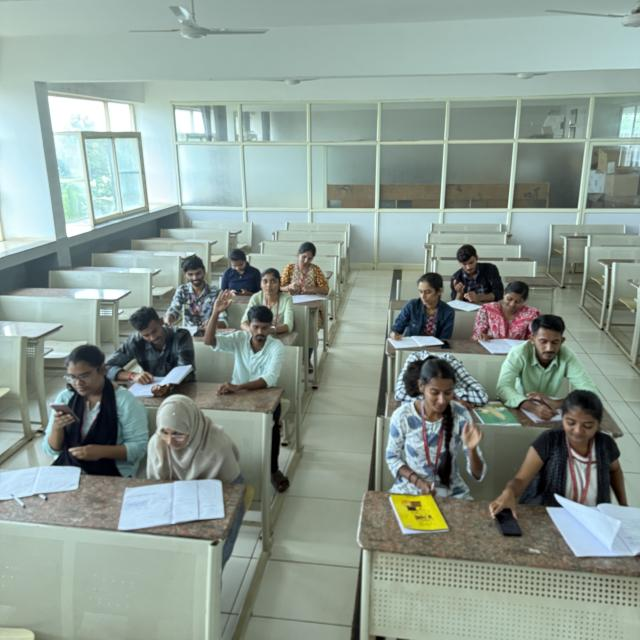Hand Rising: (350, 358, 493, 557), (206, 287, 288, 382)
Reading: (523, 392, 636, 538), (146, 243, 234, 340), (441, 240, 507, 311)
Sleeping: (388, 344, 485, 401)
Using Phone: (28, 338, 136, 467), (220, 248, 266, 300)
Writing: (124, 395, 236, 525), (498, 314, 596, 424), (99, 306, 194, 402), (472, 276, 547, 351), (385, 270, 454, 348), (280, 241, 334, 307)
